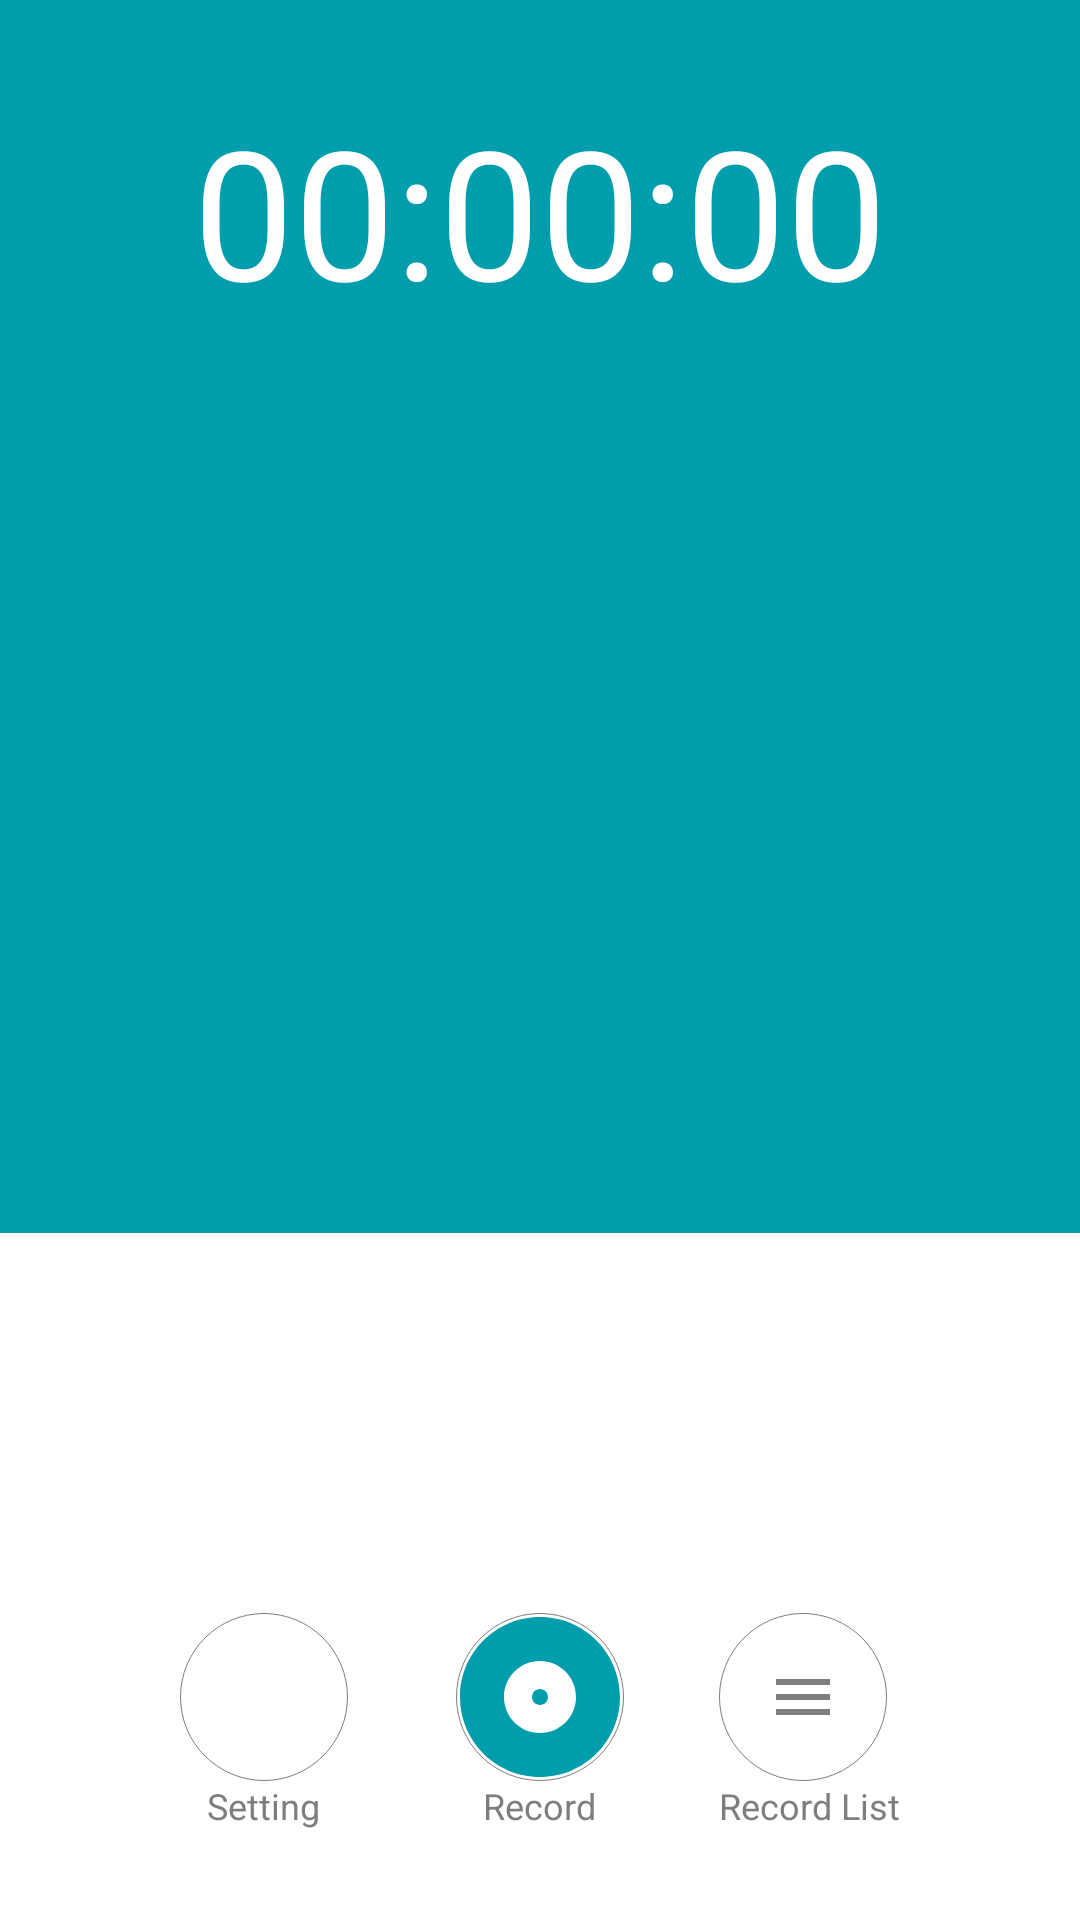

Locate icon controls on the screen. Image size 1080×1920, boxes as region(x1, y1, x2, y2).
menu: region(719, 1613, 887, 1781)
